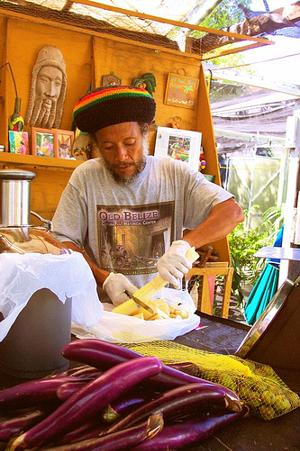person: (47, 86, 249, 306)
